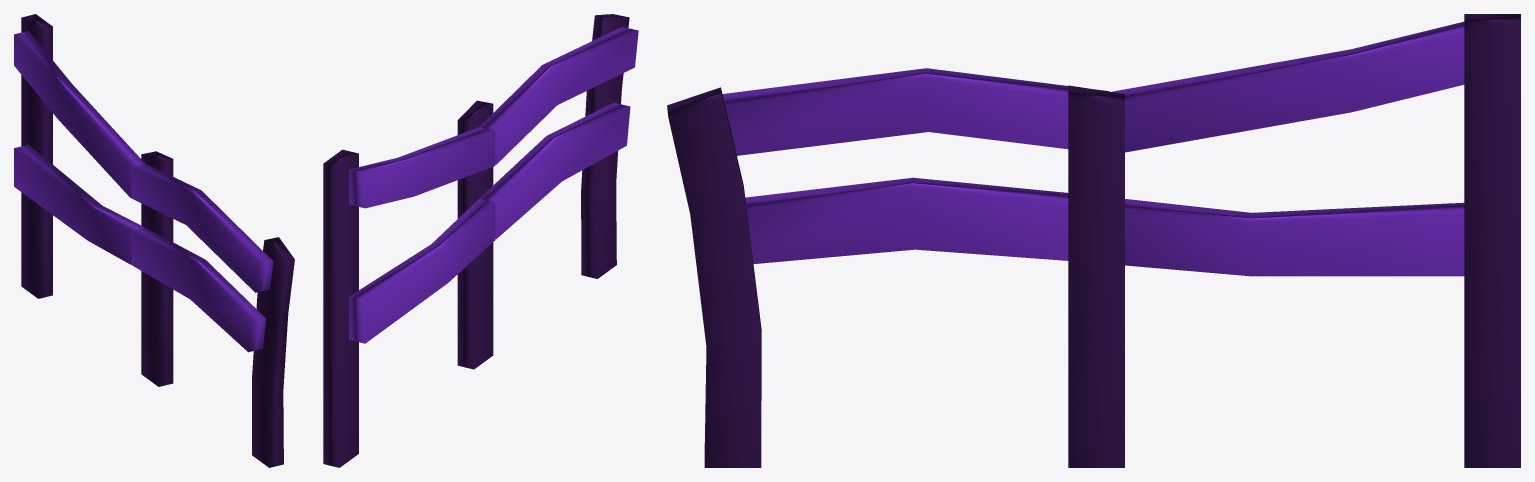
The model's file is Valla4.fbx.
3 views of the same model, side by side, from view 1: azimuth 30°, elevation 25°; view 2: azimuth 150°, elevation 25°; view 3: azimuth 270°, elevation 25° (orthographic). The views are drawn at different scales.
Parts seen in each view (by area): view 1: Tabla.008; view 2: Tabla.008; view 3: Tabla.008.
Boxes of the visible parts, left/top/right/bottom form: Tabla.008: left=14, top=14, right=294, bottom=467; Tabla.008: left=323, top=14, right=638, bottom=467; Tabla.008: left=667, top=14, right=1520, bottom=467.
Size of the model in its own units: 18.01 by 156 by 273.
